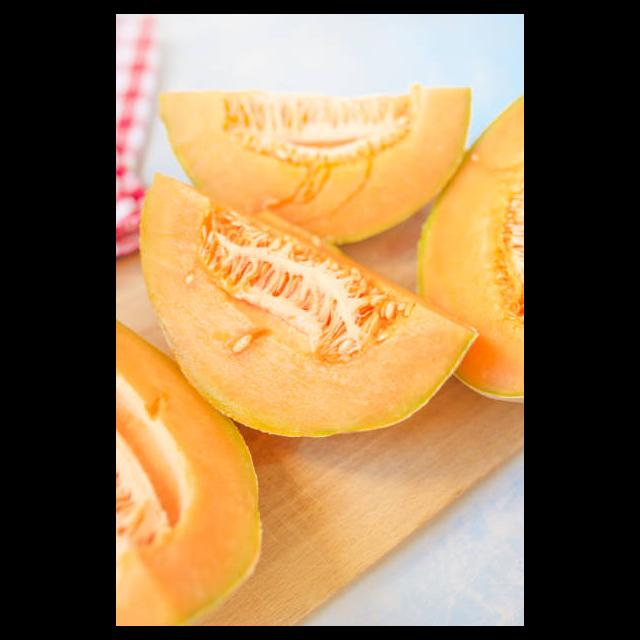Hami Melon: (140, 173, 479, 439), (159, 86, 469, 243)
